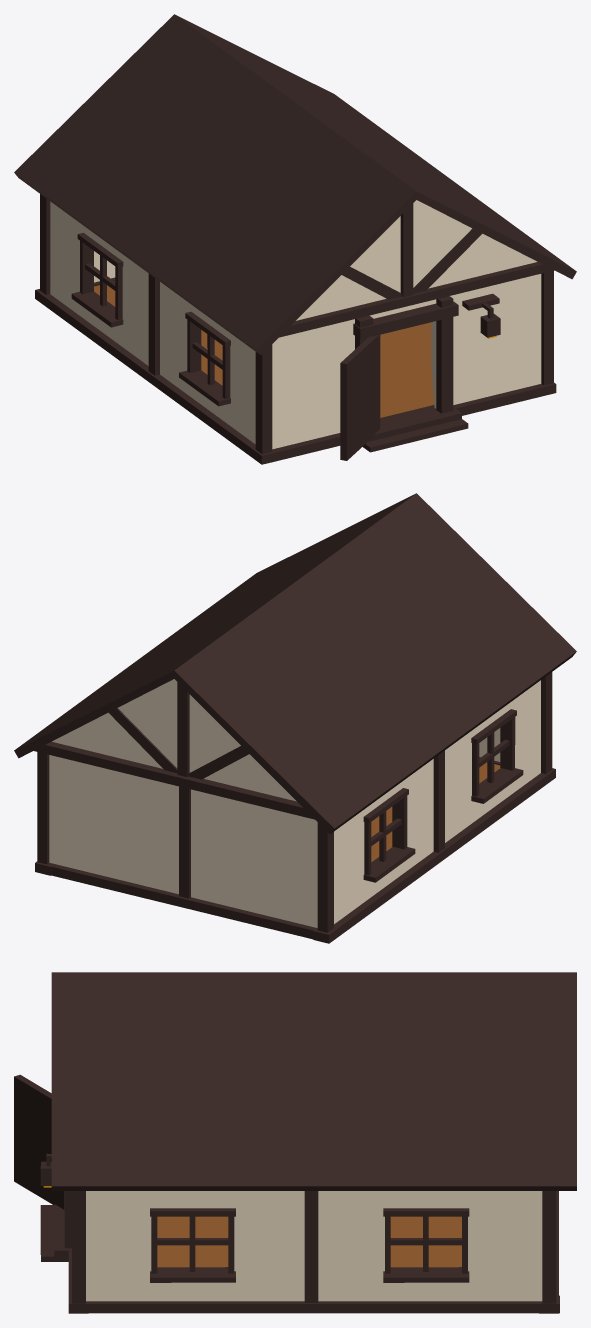
Rendered from House.fbx.
The picture shows the model from 3 angles, top to bottom: view 1: azimuth 30°, elevation 25°; view 2: azimuth 150°, elevation 25°; view 3: azimuth 270°, elevation 25°; orthographic projection. The views are drawn at different scales.
Visible parts, largest first — view 1: Cube.014, Cube, Cube.013, Cube.001, Cube.006, Cube.010, Cube.007, Cube.004, Cube.022, Cube.002, Cube.023, Cube.026 (+11 smaller); view 2: Cube.014, Cube, Cube.015, Cube.006, Cube.009, Cube.008, Cube.025, Cube.024, Cube.054, Cube.022, Cube.052, Cube.021 (+6 smaller); view 3: Cube.014, Cube, Cube.003, Cube.001, Cube.024, Cube.053, Cube.023, Cube.035, Cube.033, Cube.027, Cube.036, Cube.032 (+5 smaller).
Boxes of the visible parts, x1,y1,x2,y2 form: Cube.014: (14, 14, 576, 354); Cube: (50, 201, 541, 449); Cube.013: (296, 200, 537, 320); Cube.001: (340, 335, 380, 460); Cube.006: (35, 289, 276, 464); Cube.010: (279, 262, 553, 337); Cube.007: (264, 382, 556, 463); Cube.004: (436, 296, 453, 413); Cube.022: (255, 344, 272, 454); Cube.002: (353, 301, 458, 339); Cube.023: (541, 270, 553, 385); Cube.026: (368, 407, 461, 441); Cube.014: (14, 493, 576, 833); Cube: (49, 680, 540, 927); Cube.015: (52, 679, 296, 801); Cube.006: (313, 768, 555, 943); Cube.009: (34, 741, 314, 819); Cube.008: (35, 861, 335, 939); Cube.025: (317, 822, 333, 932); Cube.024: (37, 752, 49, 864); Cube.054: (179, 786, 190, 898); Cube.022: (541, 672, 552, 774); Cube.052: (433, 750, 444, 852); Cube.021: (177, 682, 189, 776); Cube.014: (51, 972, 576, 1190); Cube: (86, 1191, 542, 1301); Cube.003: (68, 1295, 559, 1313); Cube.001: (14, 1074, 64, 1209); Cube.024: (542, 1191, 556, 1303); Cube.053: (304, 1191, 318, 1302); Cube.023: (72, 1191, 85, 1303); Cube.035: (383, 1267, 469, 1282); Cube.033: (150, 1267, 235, 1282); Cube.027: (40, 1205, 54, 1261); Cube.036: (383, 1208, 469, 1216); Cube.032: (150, 1208, 235, 1216).
Size of the model in its own units: 412 by 300 by 578.
